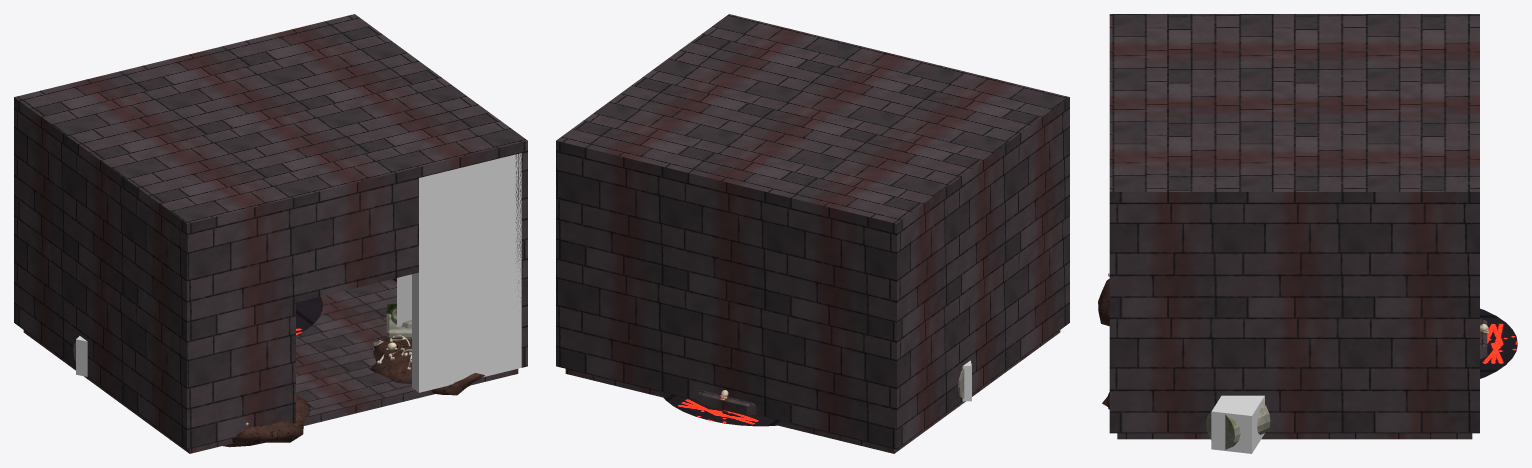
The model's file is blood_abyss_shrine.glb.
The picture shows the model from 3 angles, left to right: view 1: azimuth 30°, elevation 25°; view 2: azimuth 150°, elevation 25°; view 3: azimuth 270°, elevation 25°; orthographic projection. The views are drawn at different scales.
Visible parts, largest first — view 1: Walls, Ceiling, ShellFront-convcolonly.001, Floor, BoneMound.001, BoneMound, RuneFloor, PillarCol-convcolonly.001; view 2: Walls, Ceiling, Floor, RuneFloor, AltarSteps; view 3: Walls, Ceiling, DrumCol-convcolonly.001, Floor, RuneFloor, PillarDrum.001, BoneMound.
Part boxes in pixels (x1=…): Walls: x1=14, y1=108, x2=527, y2=449; Ceiling: x1=14, y1=14, x2=527, y2=234; ShellFront-convcolonly.001: x1=412, y1=153, x2=521, y2=392; Floor: x1=23, y1=279, x2=518, y2=453; BoneMound.001: x1=370, y1=337, x2=484, y2=395; BoneMound: x1=223, y1=394, x2=310, y2=447; RuneFloor: x1=296, y1=296, x2=322, y2=335; PillarCol-convcolonly.001: x1=397, y1=274, x2=411, y2=326; Walls: x1=556, y1=108, x2=1069, y2=449; Ceiling: x1=556, y1=14, x2=1069, y2=234; Floor: x1=565, y1=330, x2=1060, y2=453; RuneFloor: x1=659, y1=391, x2=793, y2=426; AltarSteps: x1=696, y1=390, x2=756, y2=415; Walls: x1=1109, y1=203, x2=1479, y2=433; Ceiling: x1=1109, y1=14, x2=1479, y2=203; DrumCol-convcolonly.001: x1=1211, y1=395, x2=1264, y2=453; Floor: x1=1117, y1=433, x2=1472, y2=439; RuneFloor: x1=1480, y1=308, x2=1517, y2=378; PillarDrum.001: x1=1206, y1=402, x2=1270, y2=449; BoneMound: x1=1098, y1=279, x2=1109, y2=326.
Size of what is drawn, in the model's own units: 9.47 by 5.82 by 8.28.
Materials: 13 (10 with a texture image).
